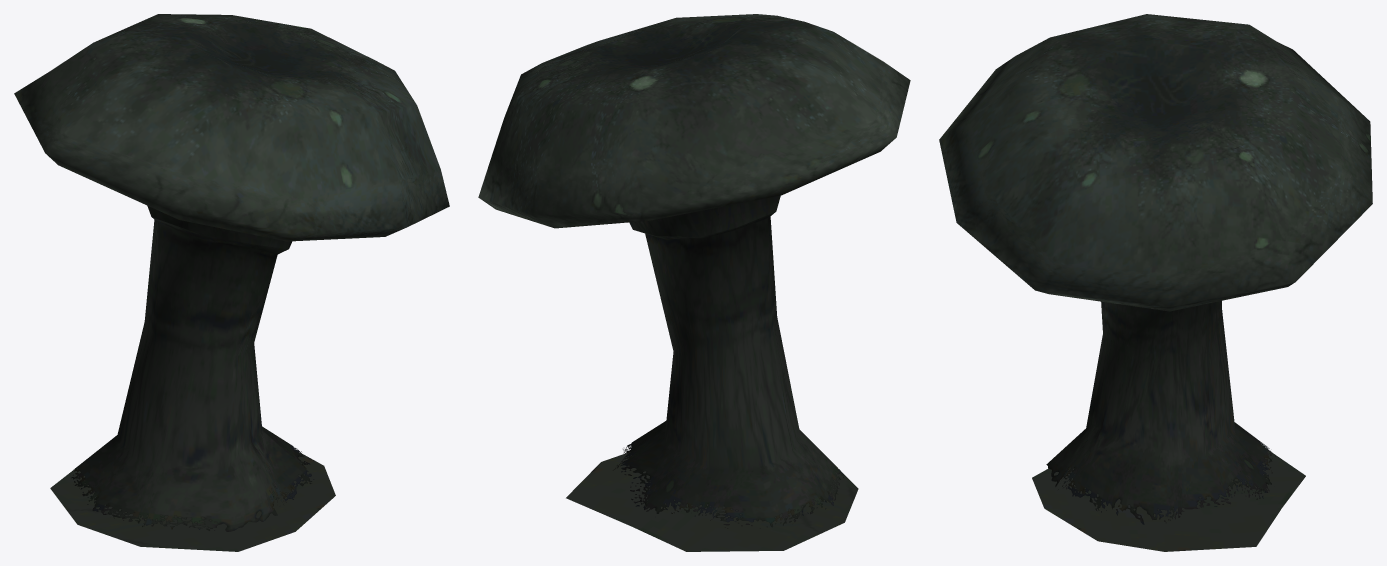
File: sewer_fungi3.dae
3 views of the same model, side by side, from view 1: azimuth 30°, elevation 25°; view 2: azimuth 150°, elevation 25°; view 3: azimuth 270°, elevation 25° (orthographic).
Visible parts, largest first — view 1: Group2; view 2: Group2; view 3: Group2.
Boxes of the visible parts, bbox=[...] form: Group2: bbox=[14, 14, 449, 551]; Group2: bbox=[478, 14, 910, 551]; Group2: bbox=[939, 14, 1372, 551].
Bounding box in the file's own units: 0.4251 × 0.4797 × 0.4215.
